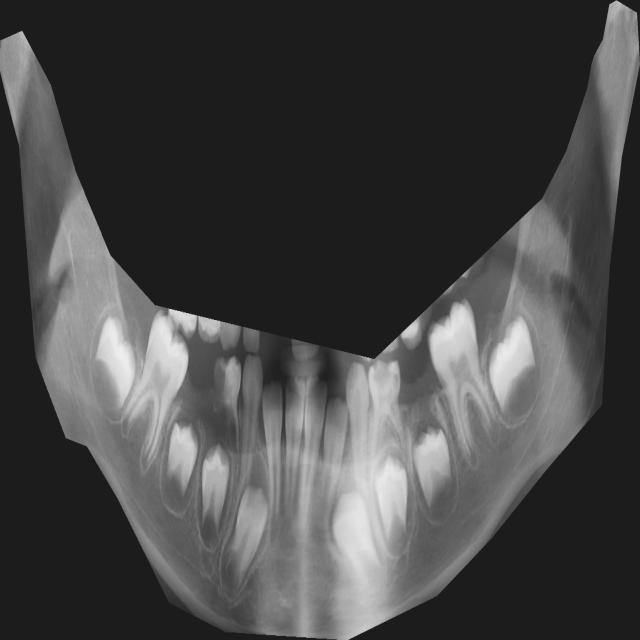mandibula: (0, 0, 640, 640)
